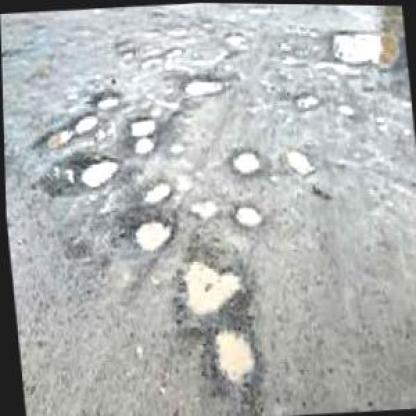pothole: (176, 250, 247, 314), (328, 22, 401, 68), (208, 322, 258, 384), (127, 211, 174, 252), (78, 150, 120, 186), (32, 122, 75, 153), (180, 71, 229, 97), (139, 175, 173, 205), (284, 143, 314, 176), (228, 144, 260, 173), (232, 202, 262, 226), (188, 196, 218, 219), (92, 85, 120, 108), (126, 115, 157, 135), (74, 108, 98, 132), (129, 134, 155, 154), (293, 89, 320, 108)
